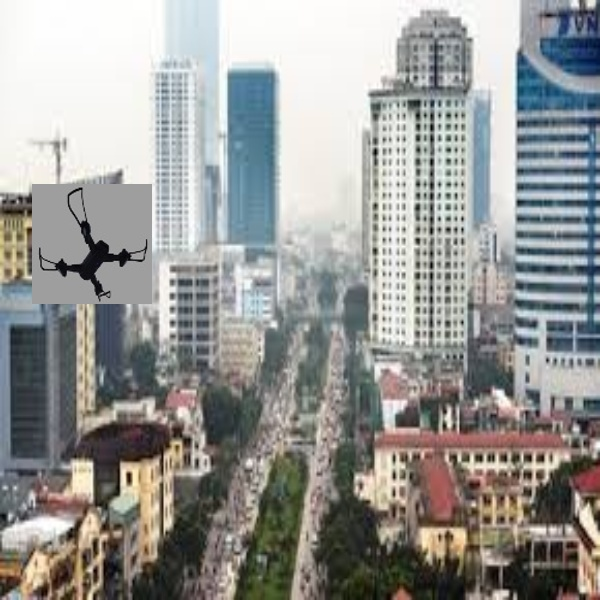drone: (31, 184, 152, 302)
